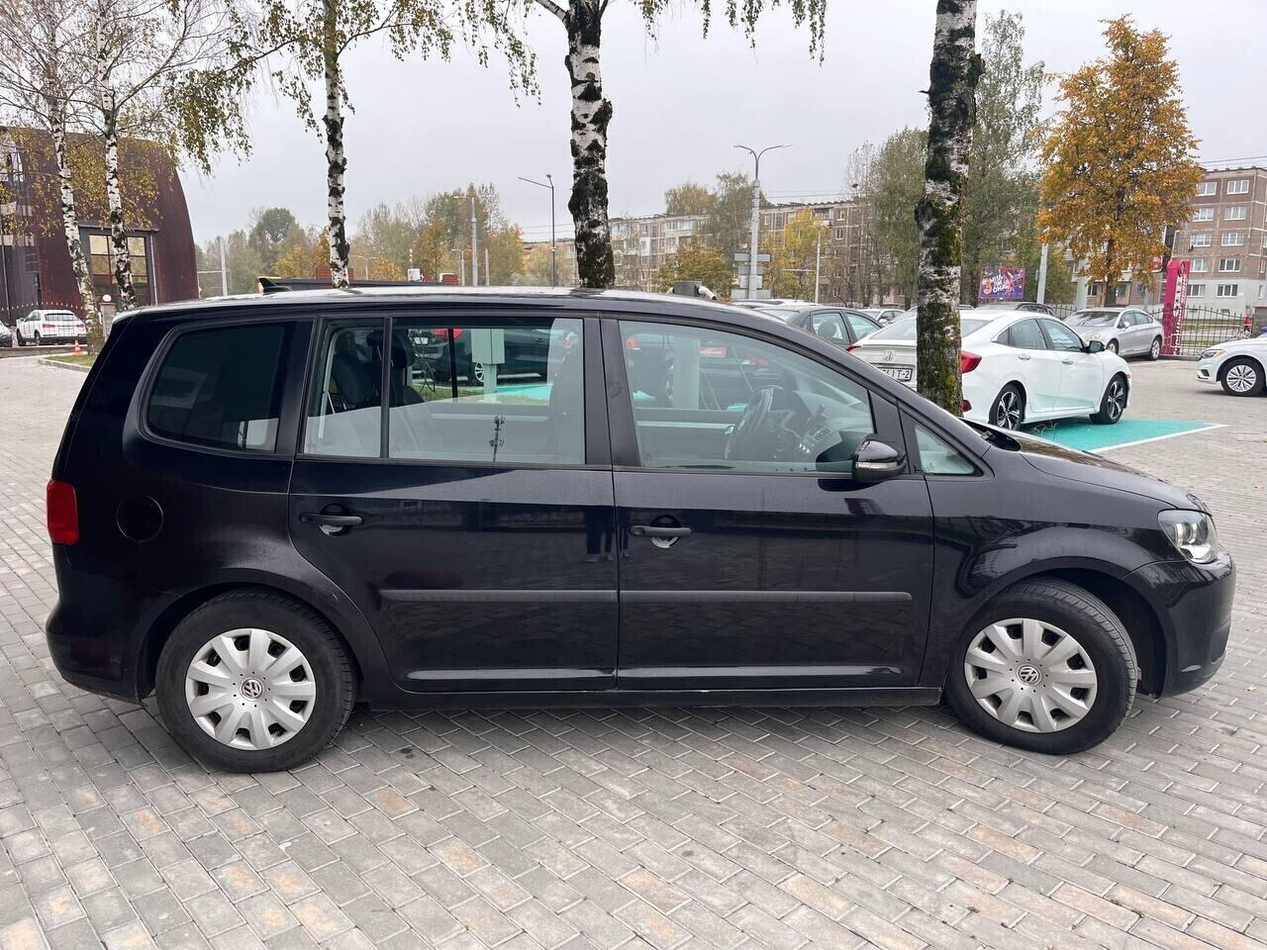Touran_2010-2015: (35, 281, 1247, 784)
